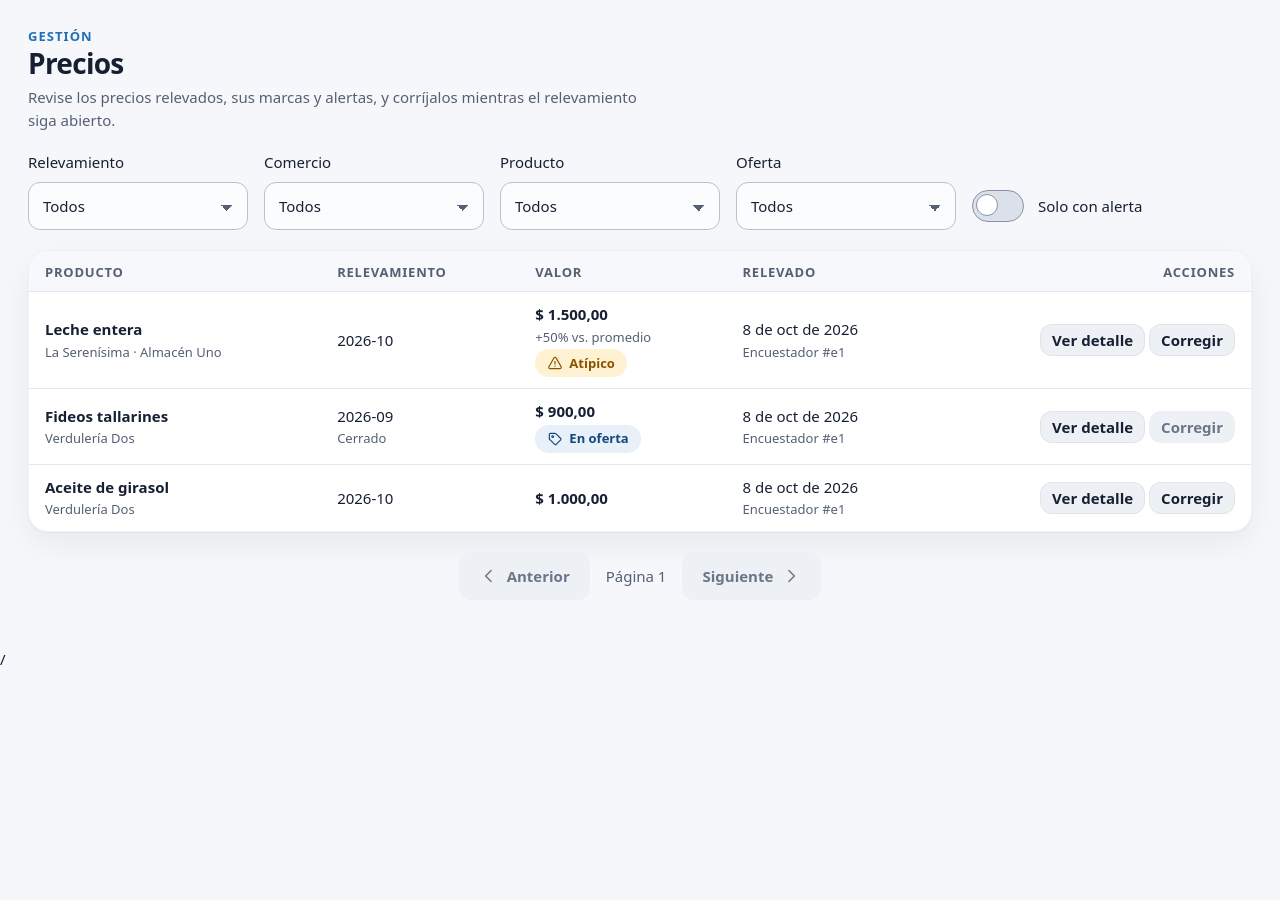
Test: detail › shows the full price, the alert range and a link to its history
Click the button "Ver detalle" in the row of "Leche entera": (1093, 340) [1040,324,1145,356]
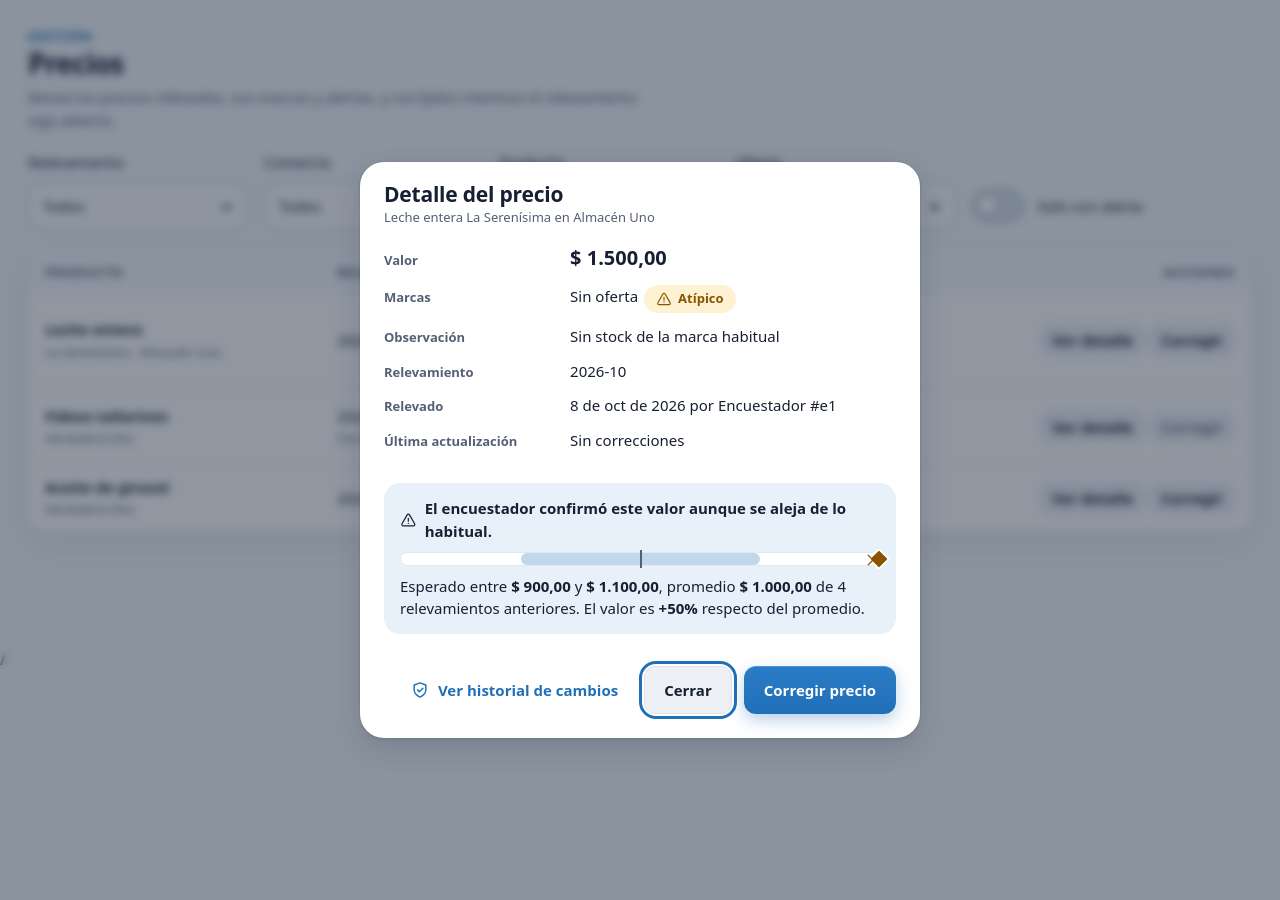
Expected: the text "Sin stock de la marca habitual" is shown, [570,326,780,346]
Press Escape
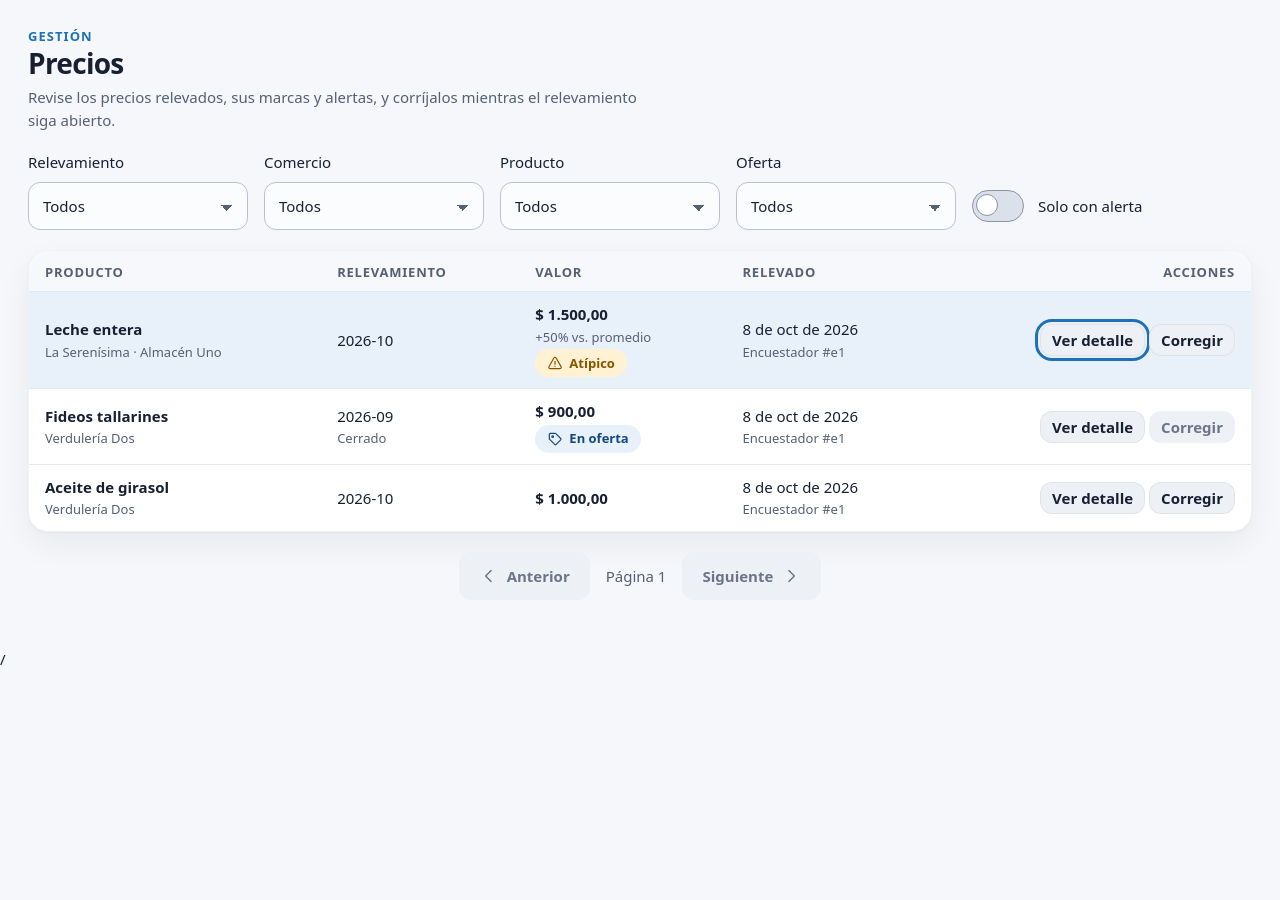
Expected: the dialog is gone
